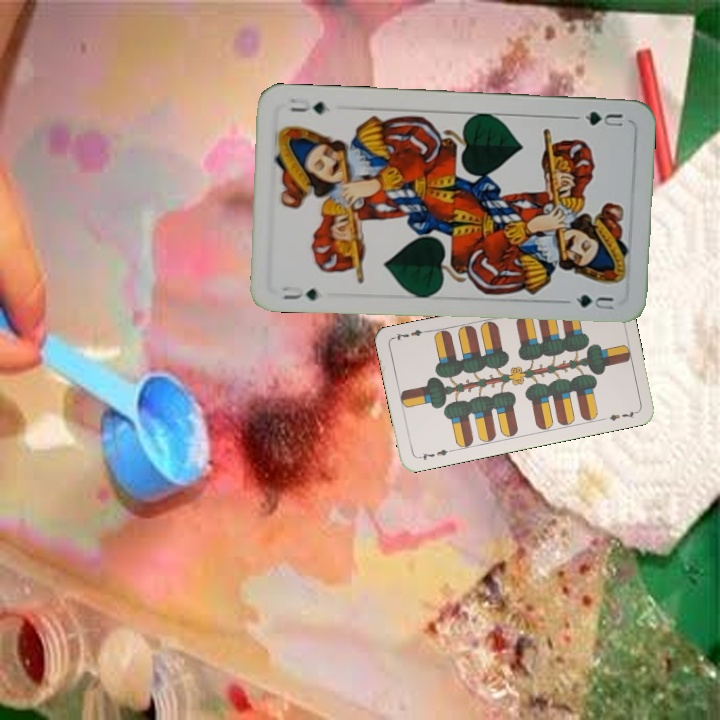E7: (414, 445, 454, 463)
GU: (581, 107, 625, 129), (278, 282, 321, 303)
